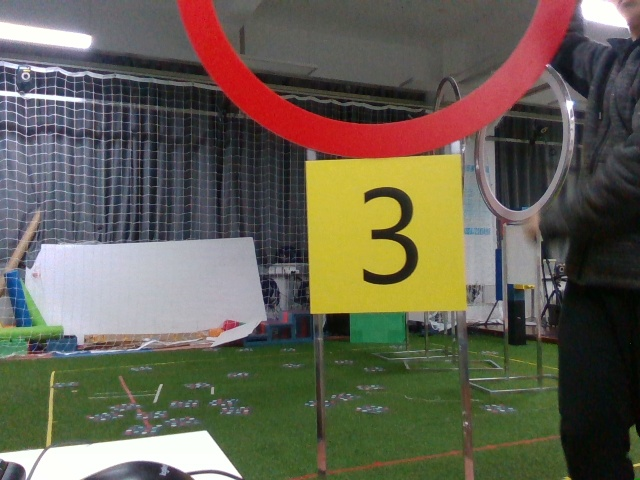target: (309, 164, 458, 313)
